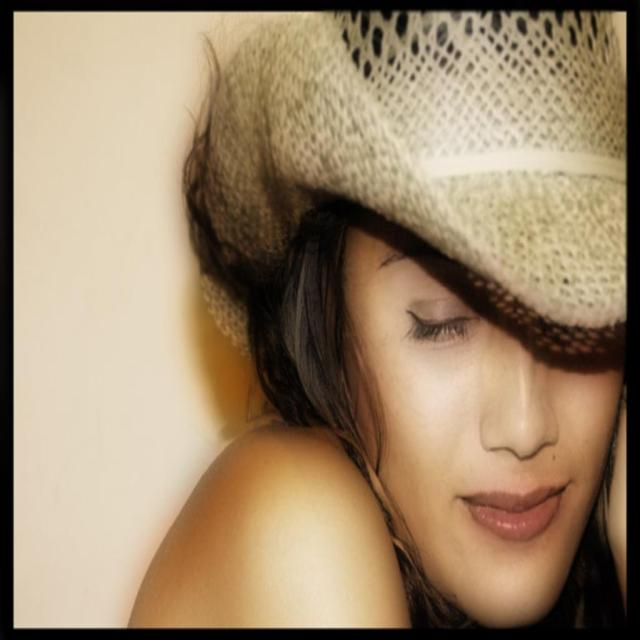Hat: (192, 8, 624, 360)
